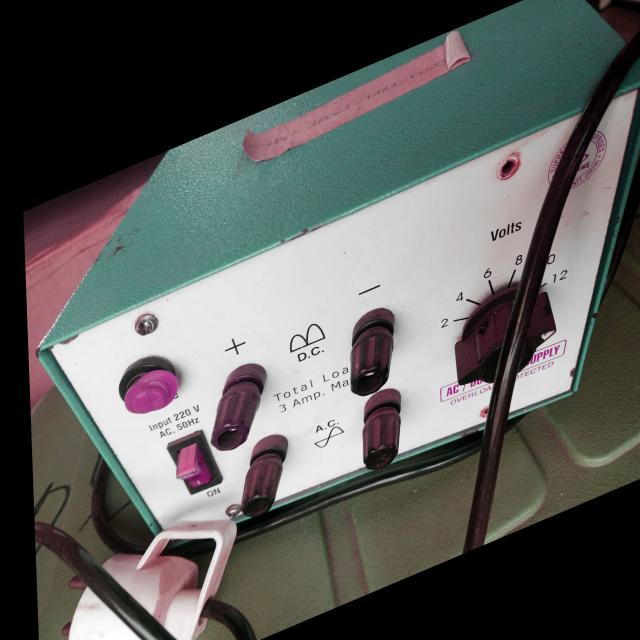AC and DC Power Supply 12 V: (39, 0, 640, 614)
